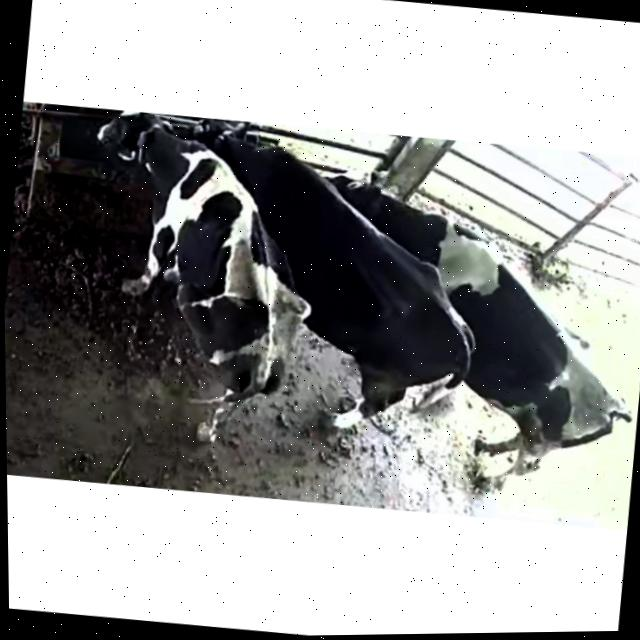drink: (171, 112, 319, 213)
